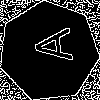A: (24, 26, 73, 65)
